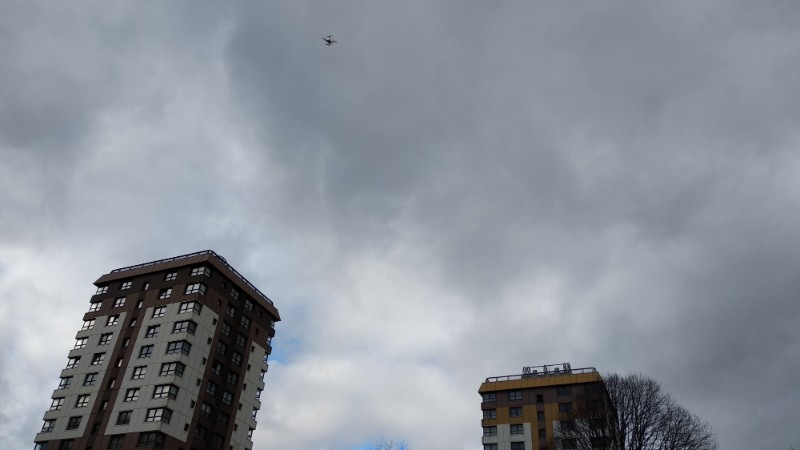drone: (323, 34, 336, 46)
